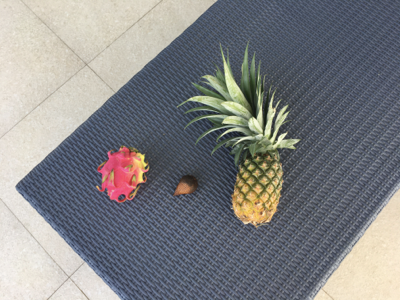dragon fruit: (97, 146, 149, 203)
pineapple: (186, 40, 300, 226)
snake fruit: (173, 176, 200, 193)
